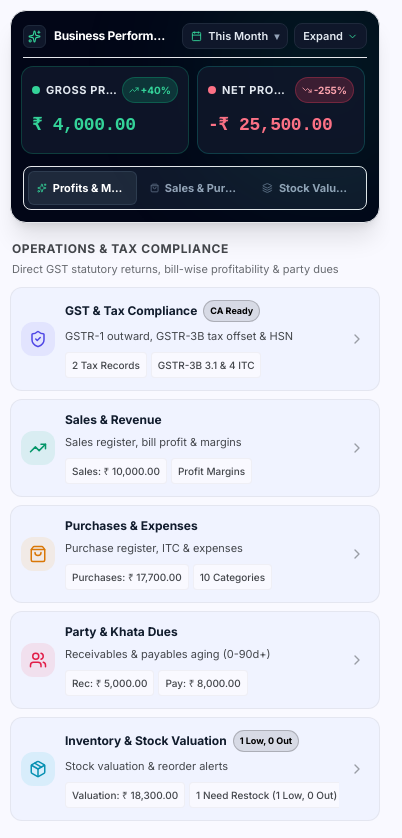
Test: Reports Hub & Dedicated Pages Redesign Integration Suite (reportsHubView.test.tsx) › 4. Navigates to dedicated Sales & Revenue page and verifies bill-wise profit
Click the button with aria-label "Open Sales & Revenue report".
click(195, 448)  # box top-left (10, 399), bottom-right (380, 497)
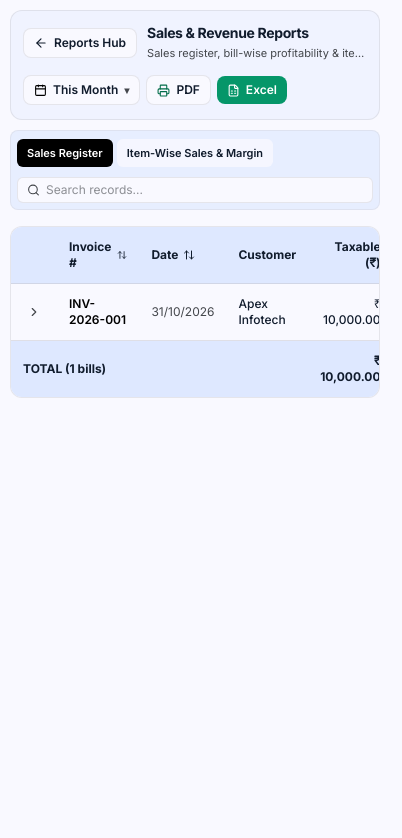
Now the text "Sales & Revenue Reports" is shown, box top-left (147, 24), bottom-right (309, 41)
Now the text "Item-Wise Sales & Margin" is shown, box top-left (127, 143), bottom-right (263, 163)
Now the text "INV-2026-001" is shown, box top-left (57, 284), bottom-right (139, 340)
